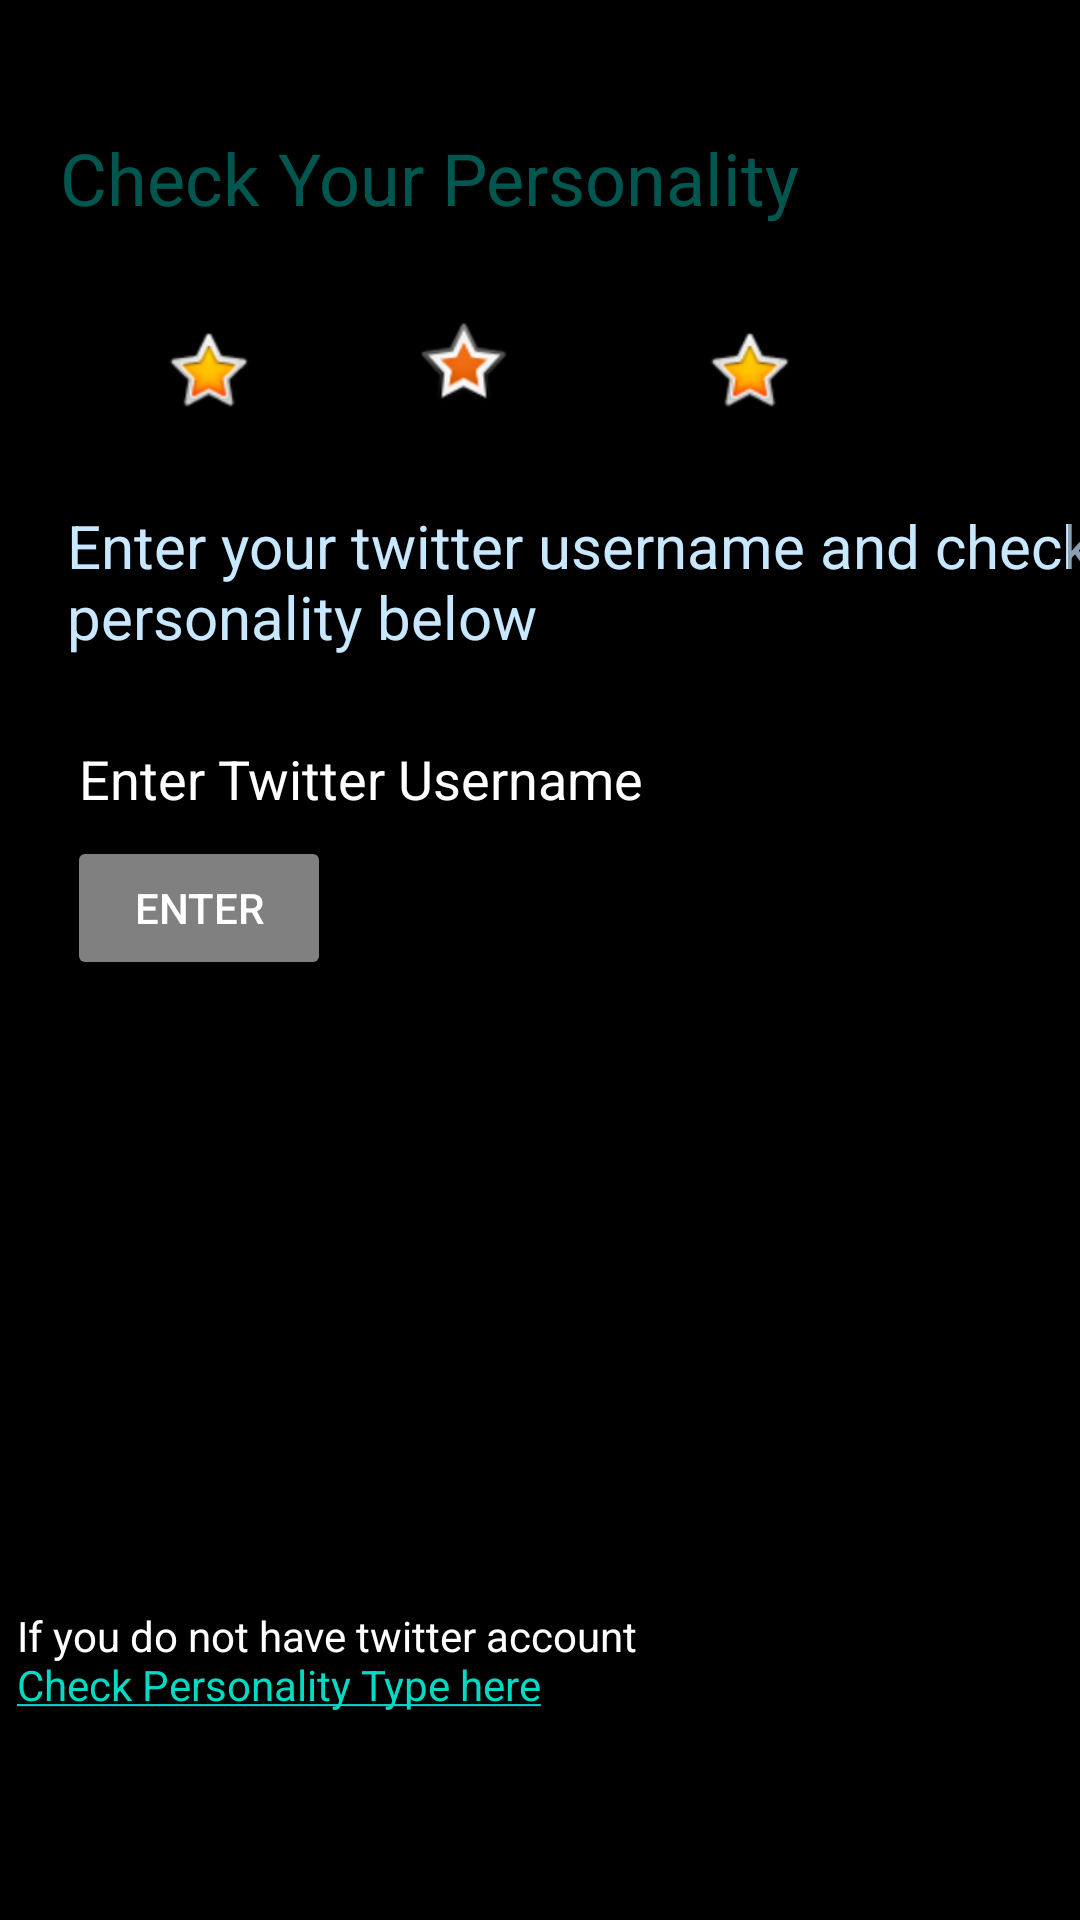

Icon click points for this 1080 × 1920 phone screenshot, format (x=x, y=y):
star on: (x=464, y=361), (x=209, y=370), (x=750, y=370)
